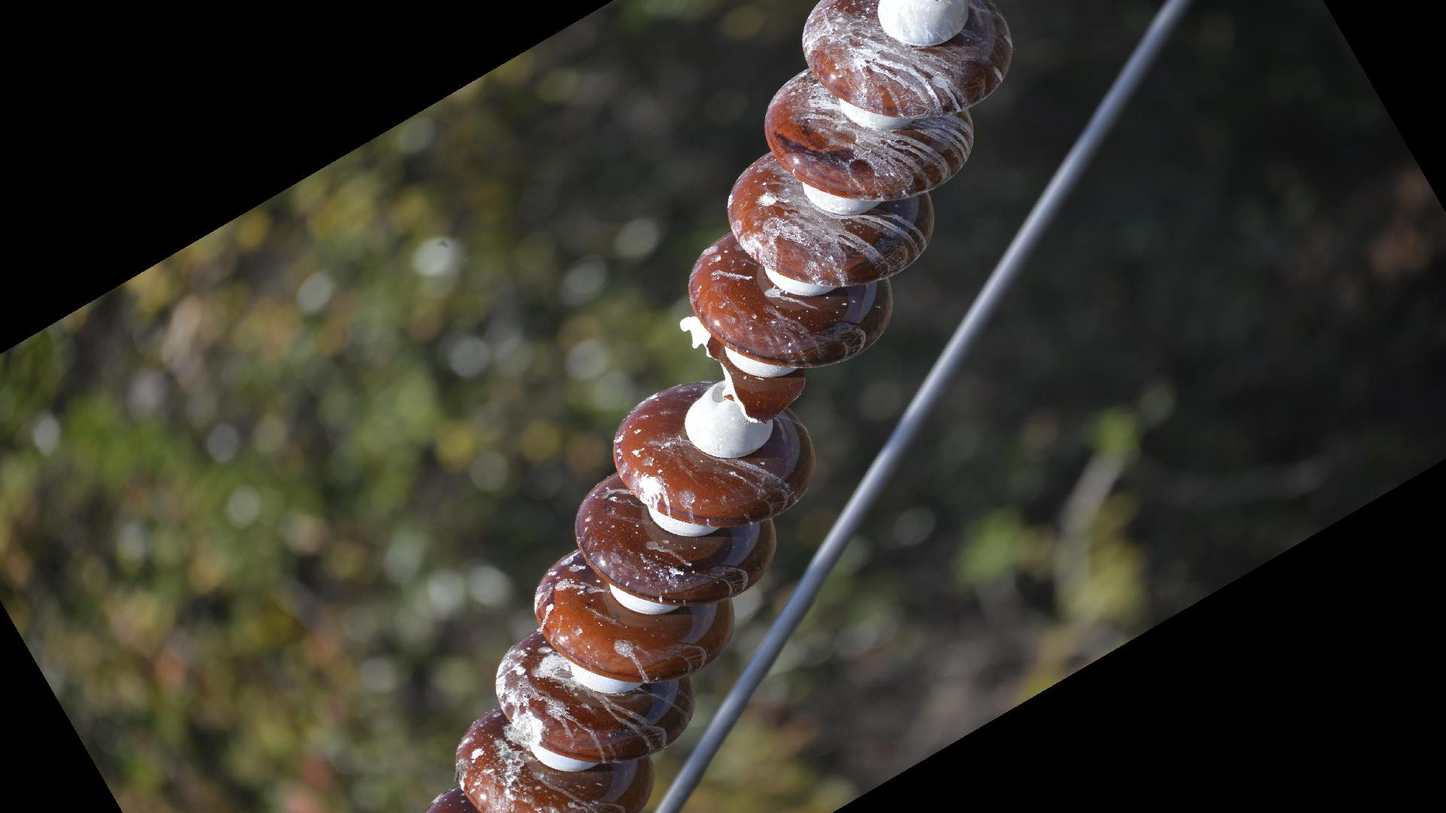insulator: (423, 1, 1025, 813)
insulator_breakage: (673, 313, 767, 428)
